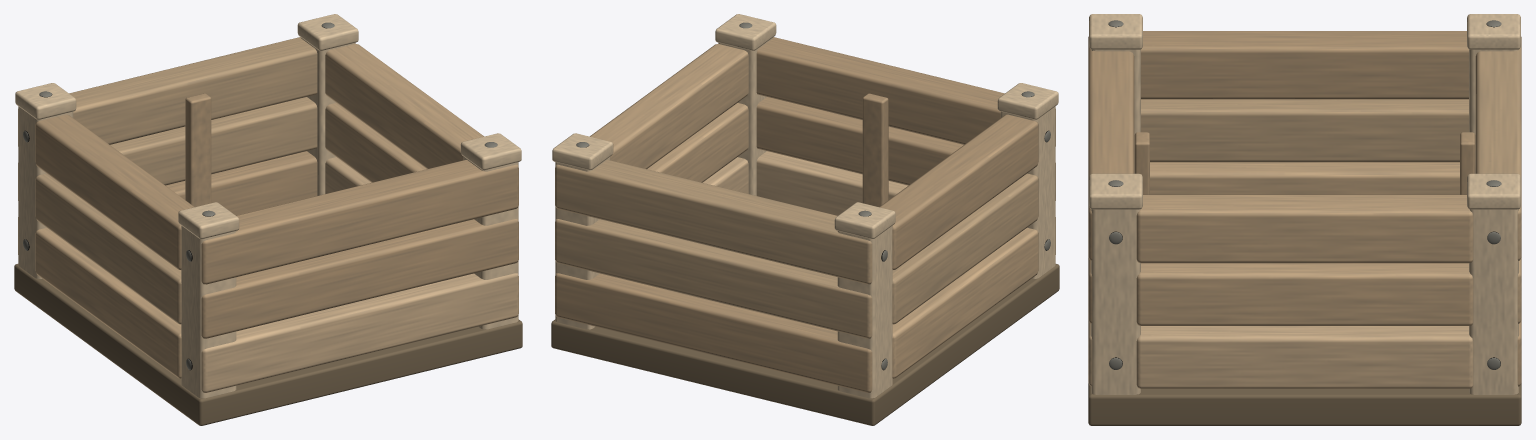
Rendered from wall-master.glb.
3 renders of one model, left to right at view 1: azimuth 30°, elevation 25°; view 2: azimuth 150°, elevation 25°; view 3: azimuth 270°, elevation 25°, orthographic. The views are drawn at different scales.
Parts seen in each view (by area): view 1: Pallet wall / one cell; view 2: Pallet wall / one cell; view 3: Pallet wall / one cell.
Boxes of the visible parts, x1,y1,x2,y2 form: Pallet wall / one cell: [14, 14, 522, 425]; Pallet wall / one cell: [551, 14, 1059, 425]; Pallet wall / one cell: [1088, 14, 1521, 425].
Bounding box in the file's own units: 1 × 0.595 × 1.
13 materials, 13 textured.
